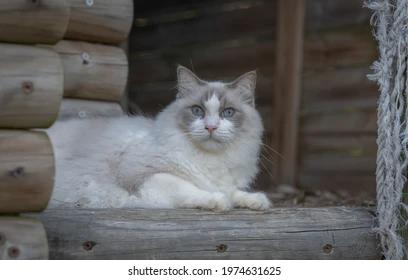ragdoll: (167, 61, 264, 160)
